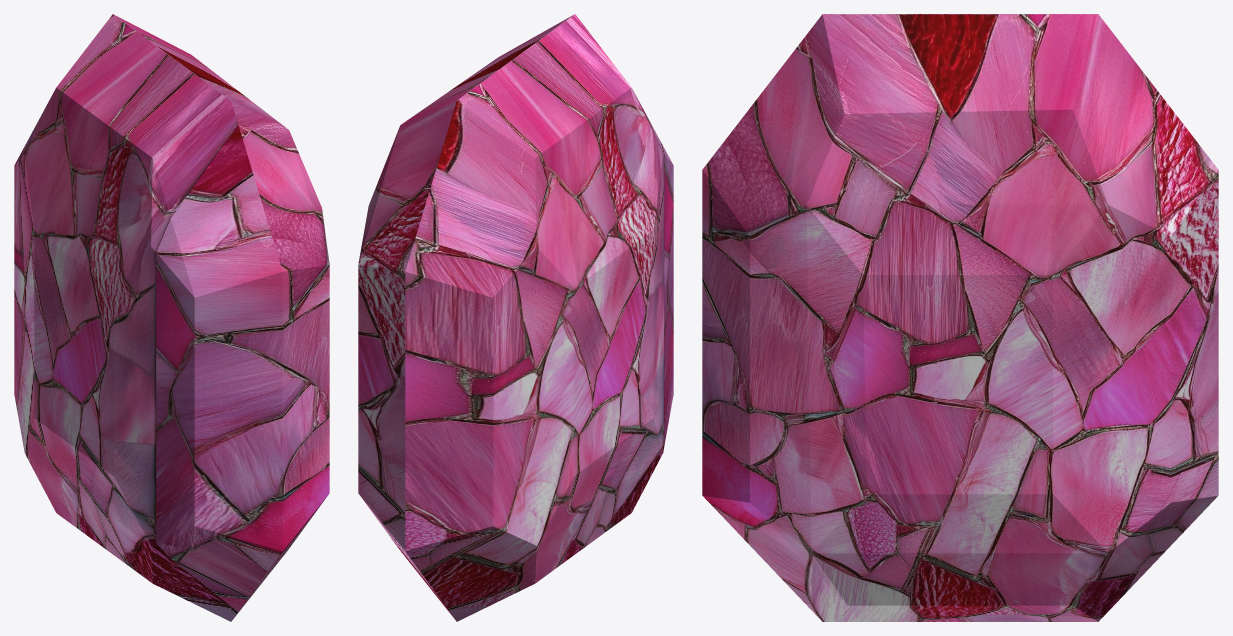
Rendered from gemstone8PinkCompressed.glb.
3 renders of one model, left to right at view 1: azimuth 30°, elevation 25°; view 2: azimuth 150°, elevation 25°; view 3: azimuth 270°, elevation 25°, orthographic. The views are drawn at different scales.
Parts seen in each view (by area): view 1: gemstone7; view 2: gemstone7; view 3: gemstone7.
Part boxes in pixels (x1=…): gemstone7: x1=14, y1=14, x2=329, y2=621; gemstone7: x1=358, y1=14, x2=673, y2=621; gemstone7: x1=702, y1=14, x2=1218, y2=621.
Bounding box in the file's own units: 0.5 × 1.3 × 1.
Materials: 1 (1 with a texture image).
